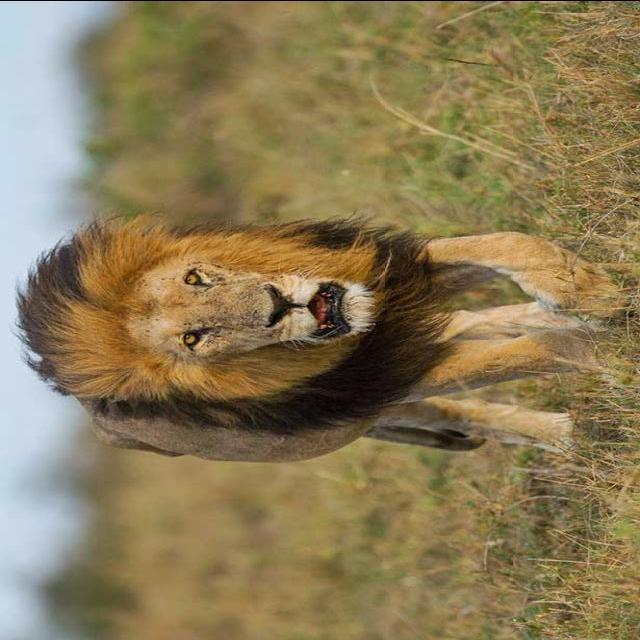lions: (0, 81, 640, 568)
